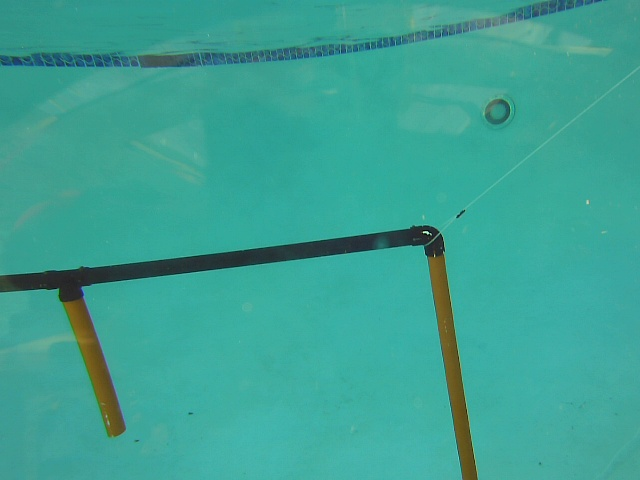Gate: (423, 250, 482, 480), (59, 292, 128, 440)
